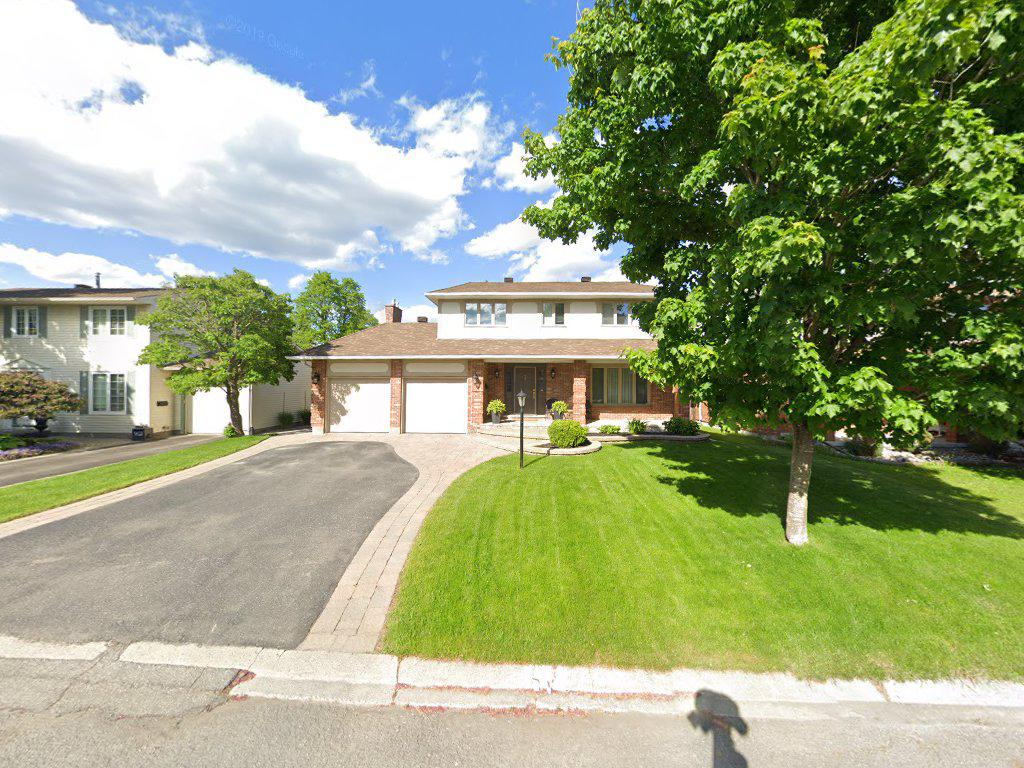trunk: (785, 409, 815, 560)
